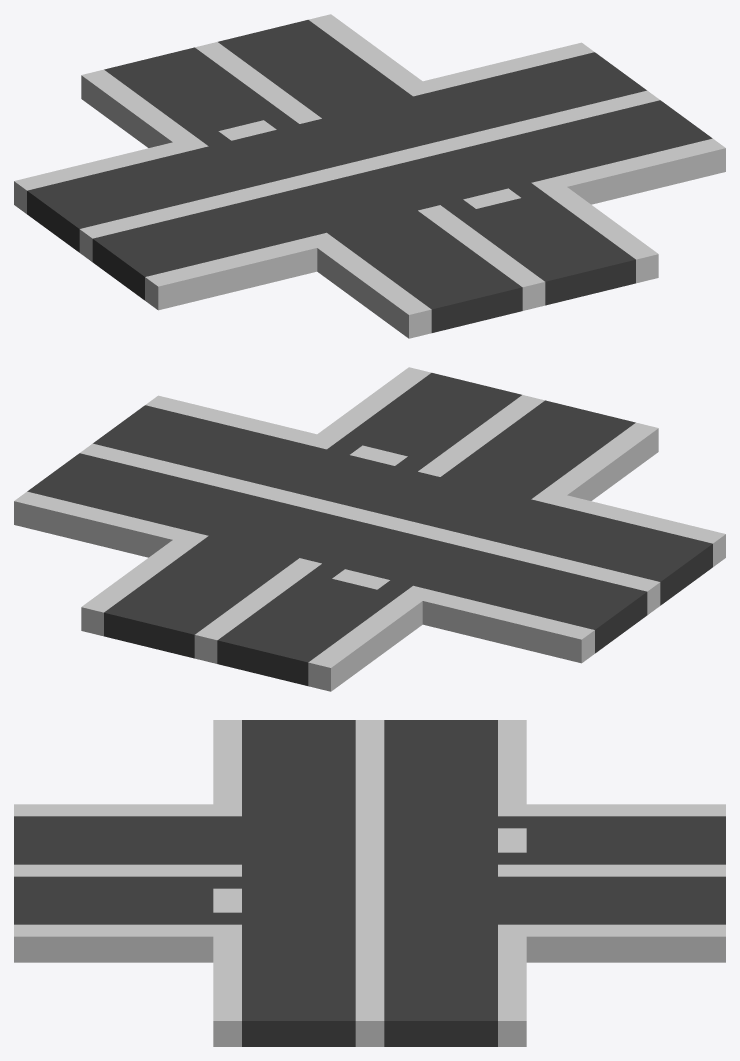
Rendered from StraßeKreuzungt.obj.
3 renders of one model, top to bottom at view 1: azimuth 30°, elevation 25°; view 2: azimuth 150°, elevation 25°; view 3: azimuth 270°, elevation 25°, orthographic. The views are drawn at different scales.
Size of the model in its own units: 5 by 0.2 by 5.
1 material, 1 textured.
